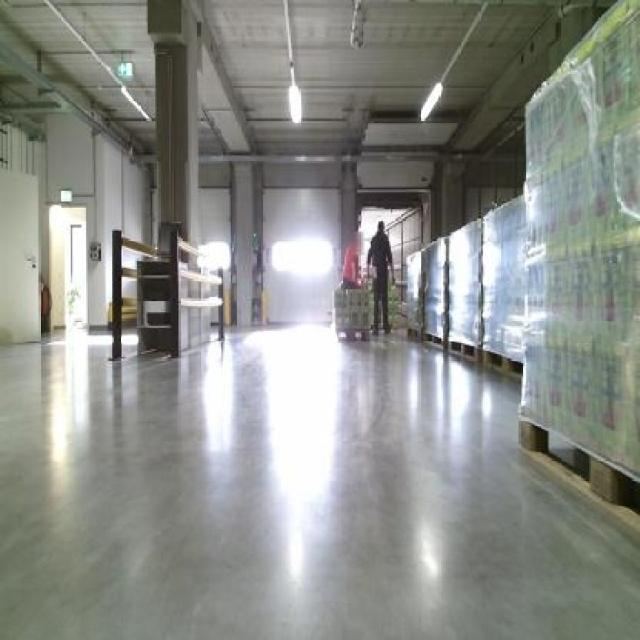floor: (0, 326, 637, 637)
pallets: (405, 0, 637, 498), (111, 220, 222, 355)
